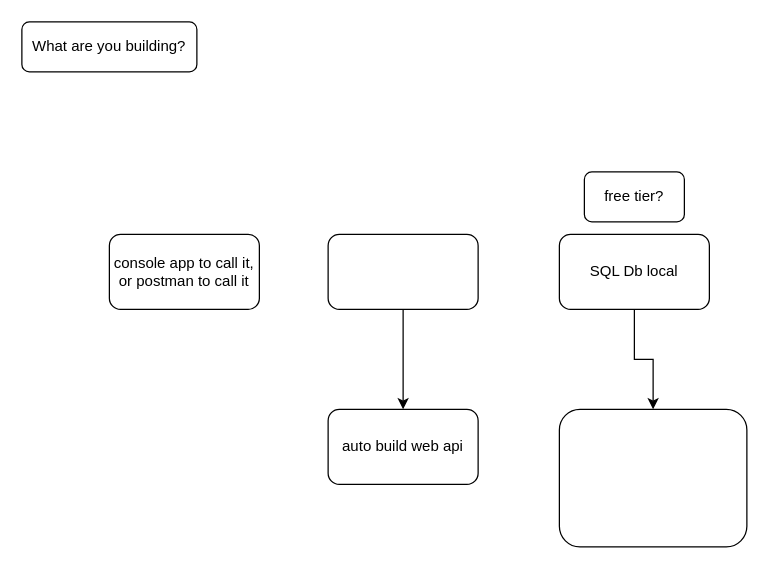
Some shapes in this 769 by 569 pixel diagram are drawn without their labels. The centre of each missing label's shape, as x and y in pixels:
"API" goes at point 402,271.
"local, follow tutorial, add via sql management studio if you can?" goes at point 652,477.
